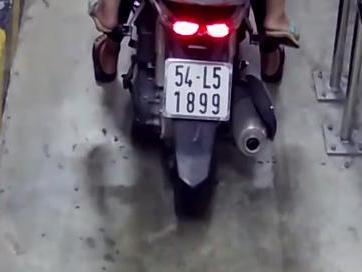num_plate: (162, 57, 232, 122)
